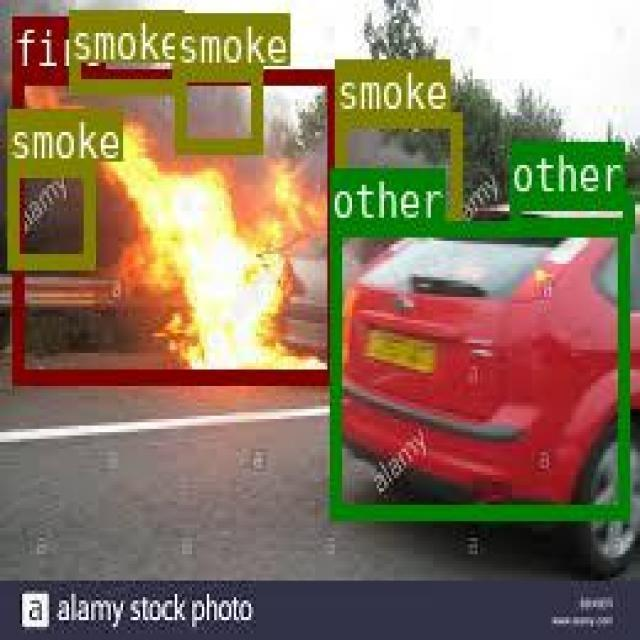fire: (10, 68, 336, 382)
smoke: (335, 110, 459, 223), (68, 8, 180, 90), (5, 160, 93, 264), (174, 64, 259, 149)
